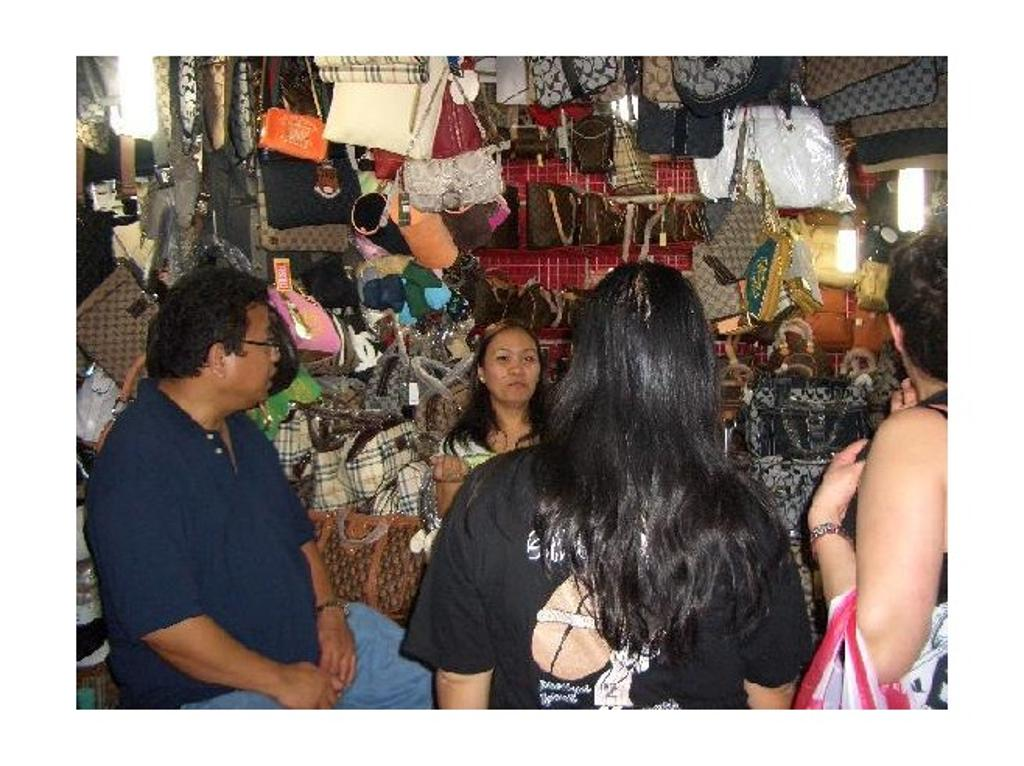face: (214, 306, 282, 402), (484, 318, 542, 412)
